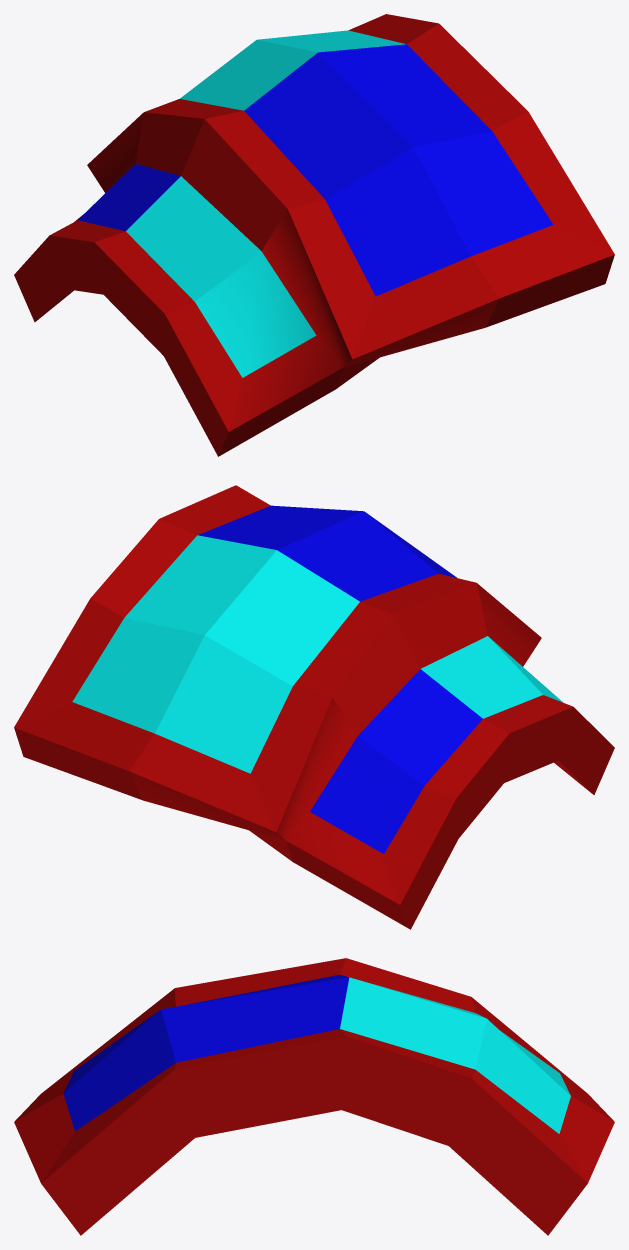
Rendered from Chr_ShoulderAttachRight_Static_16.fbx.
3 views of the same model, one above another, from view 1: azimuth 30°, elevation 25°; view 2: azimuth 150°, elevation 25°; view 3: azimuth 270°, elevation 25° (orthographic). The views are drawn at different scales.
Visible parts, largest first — view 1: Chr_ShoulderAttachRight_16; view 2: Chr_ShoulderAttachRight_16; view 3: Chr_ShoulderAttachRight_16.
Boxes of the visible parts, x1=… form: Chr_ShoulderAttachRight_16: x1=14, y1=14, x2=614, y2=456; Chr_ShoulderAttachRight_16: x1=14, y1=485, x2=614, y2=929; Chr_ShoulderAttachRight_16: x1=14, y1=958, x2=614, y2=1235.
Bounding box in the file's own units: 18.09 × 12.35 × 23.75.
